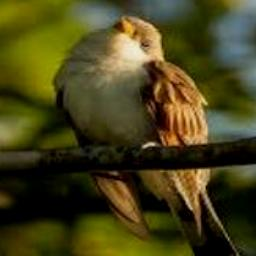Cuckoo: (55, 16, 256, 256)
